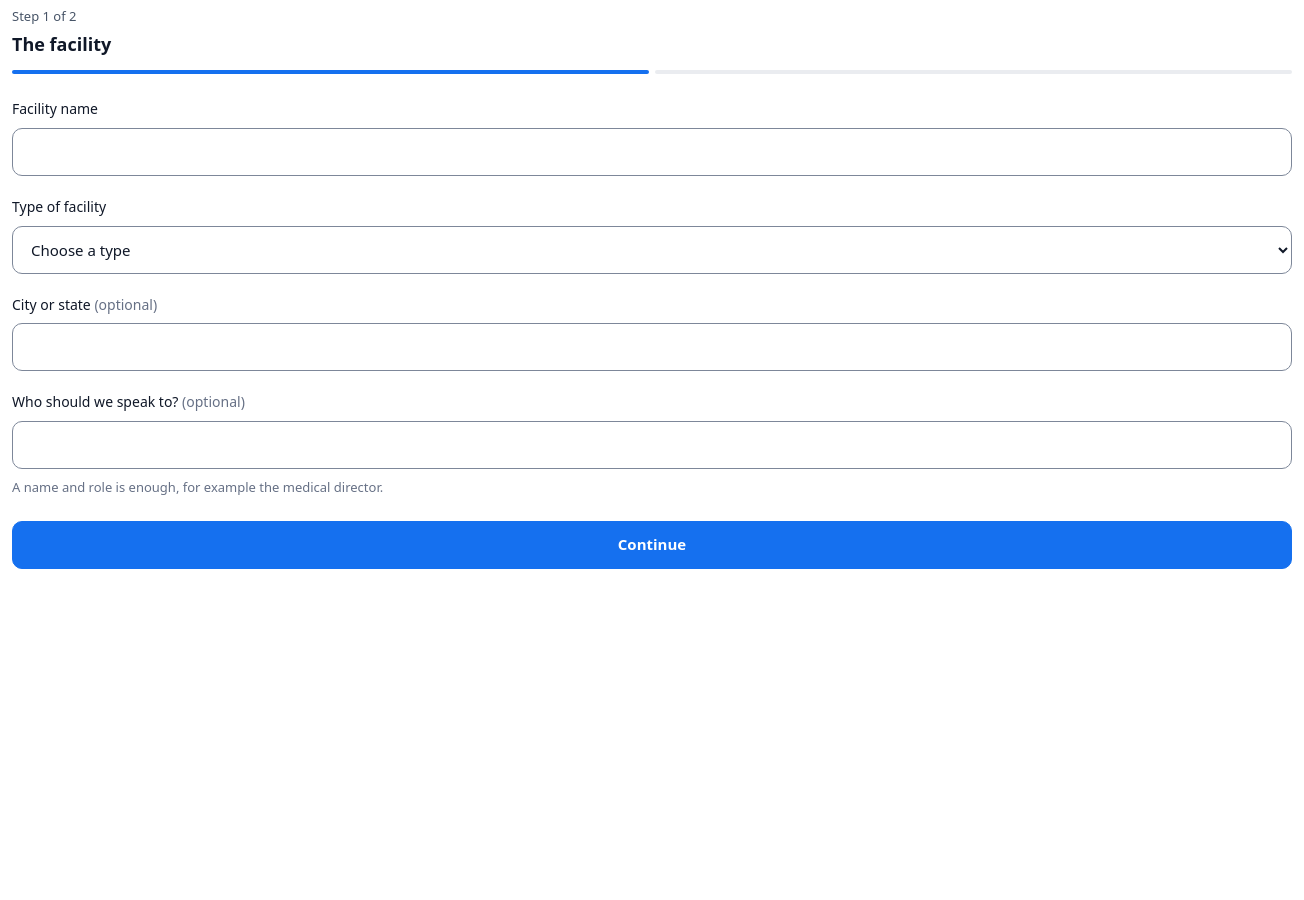
it: referral form › marks and focuses the field hid-system refused (contactPhone)
Type "Lagos General Hospital" into the field named "facilityName" at (652, 152), box [12,128,1292,176]
Select "Clinic" in the dropdown labelled "Type of facility" at (652, 250), box [12,226,1292,274]
Click the button "Continue" at (652, 545), box [12,521,1292,569]
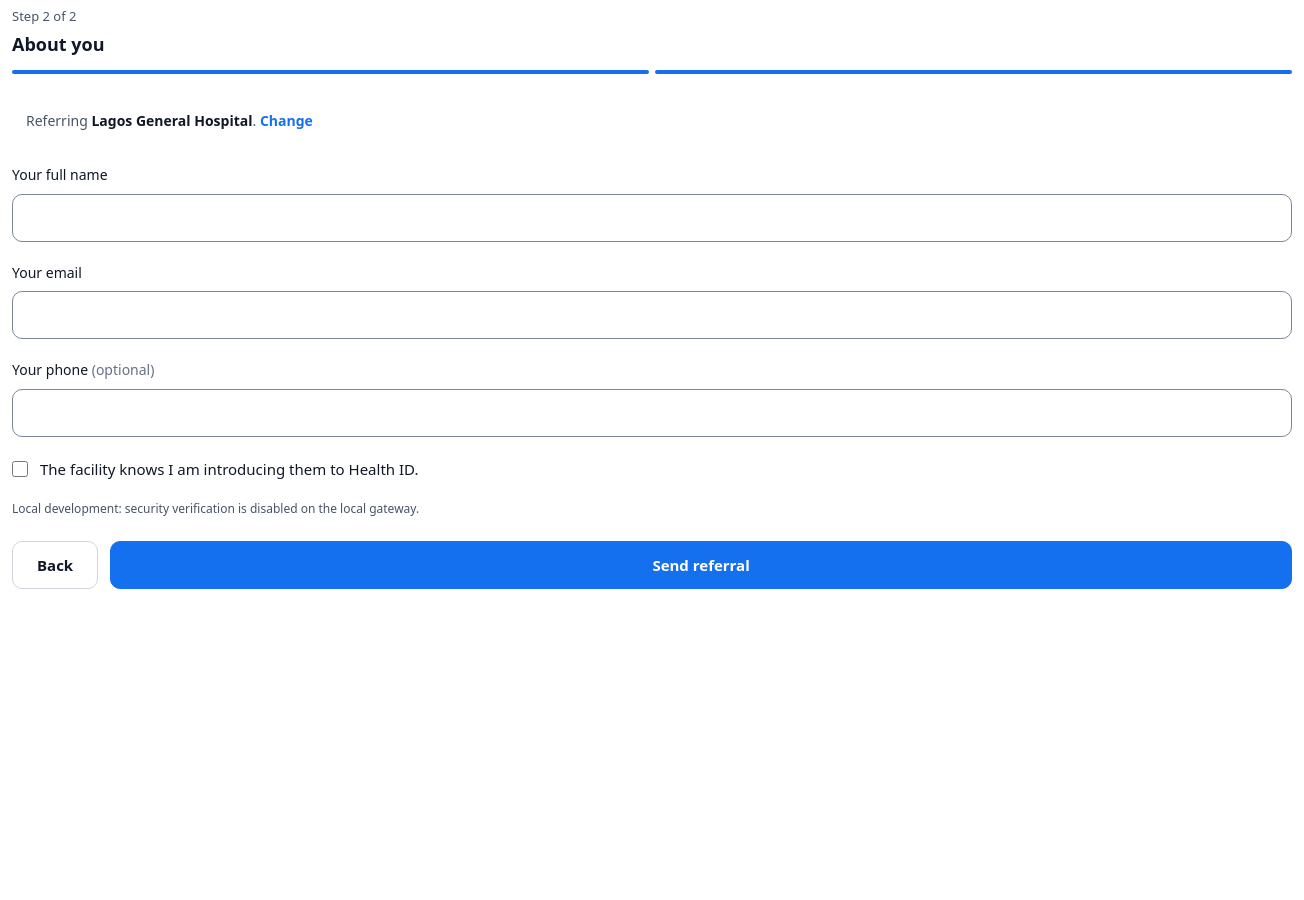
Type "Ada Okafor" into the field named "referrerName" at (652, 218), box [12,194,1292,242]
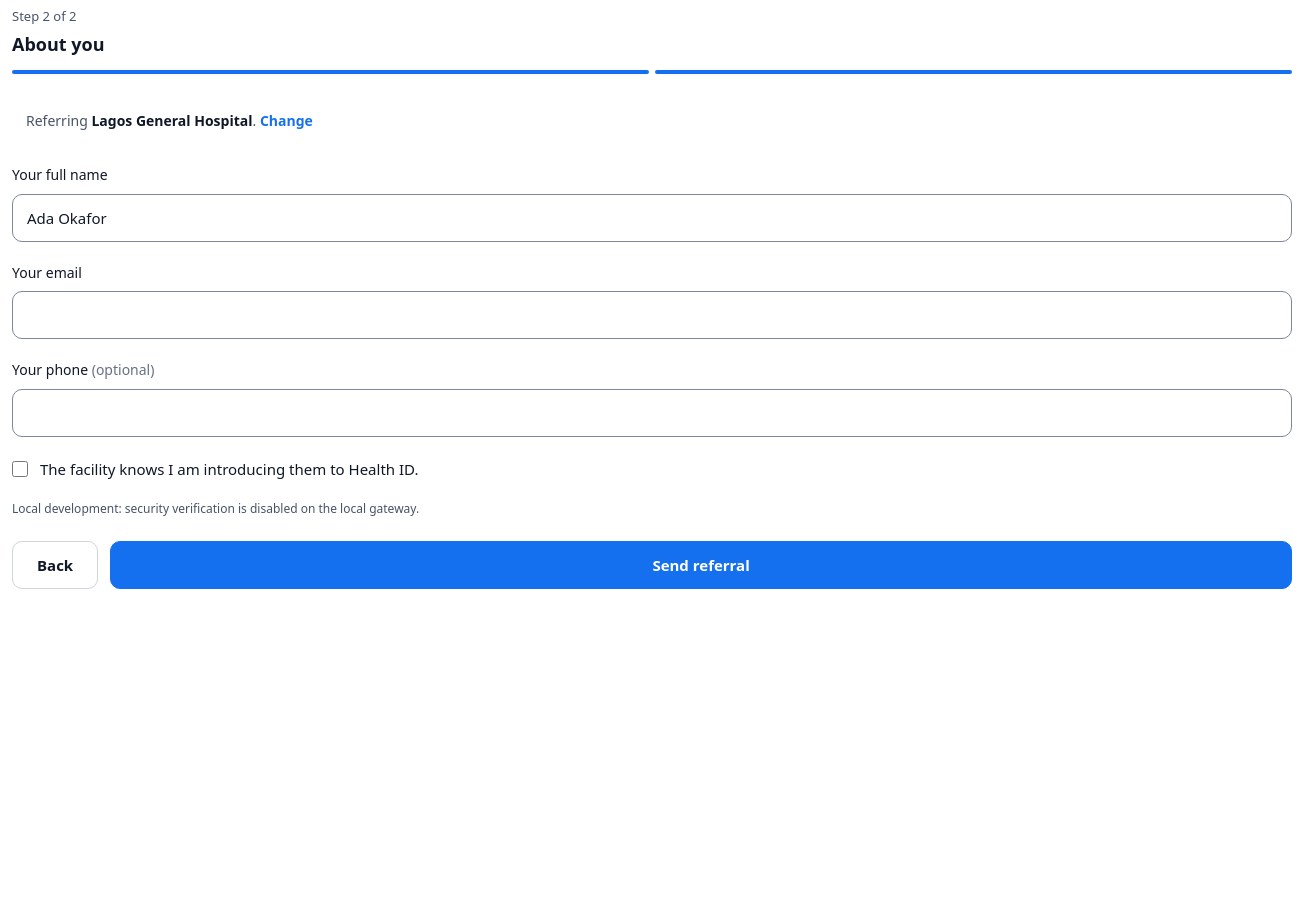
Type "ada@example.test" into the field labelled "Your email" at (652, 315), box [12,291,1292,339]
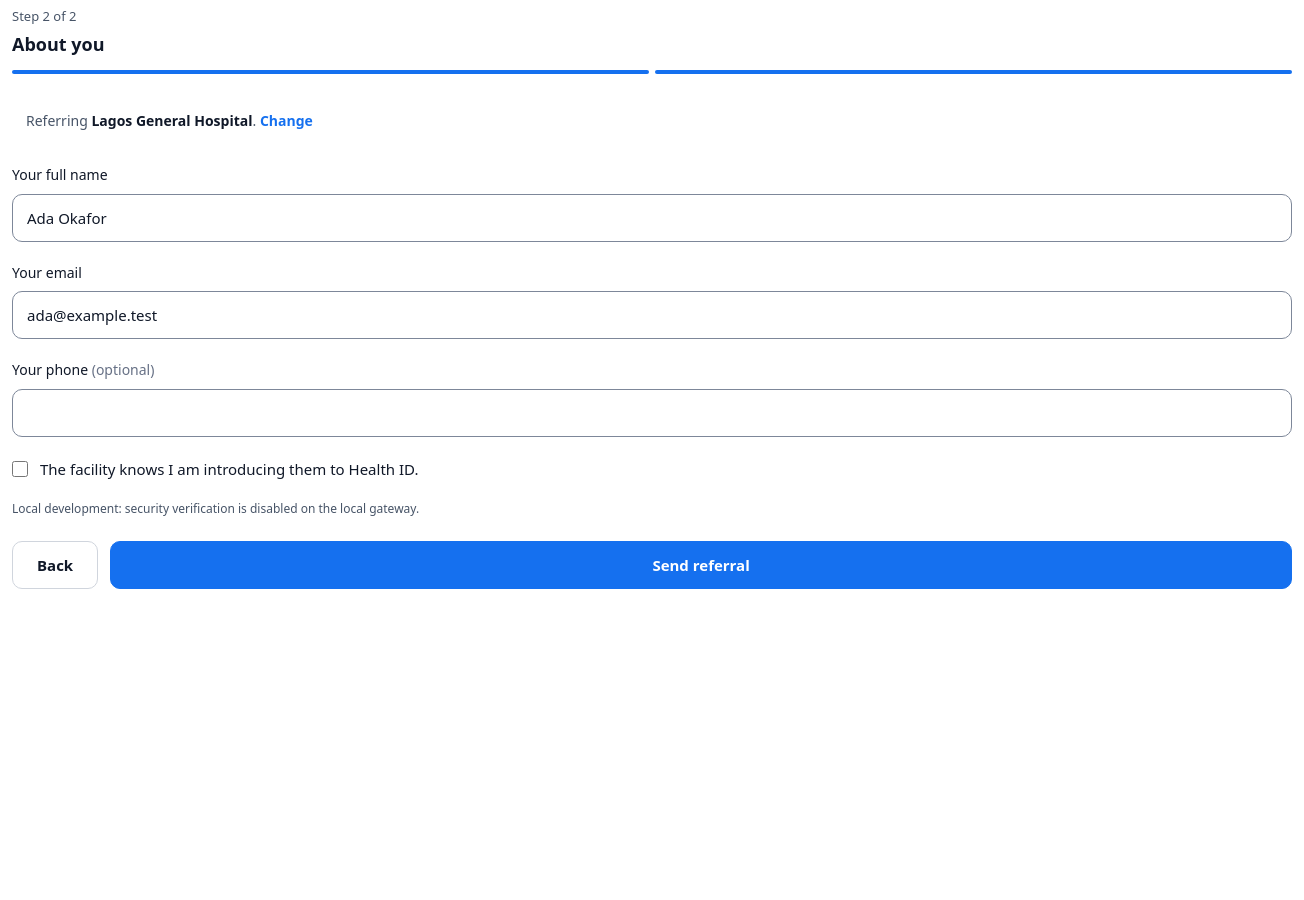
Type "+234 803 000 0000" into the field labelled "Your phone (optional)" at (652, 413), box [12,389,1292,437]
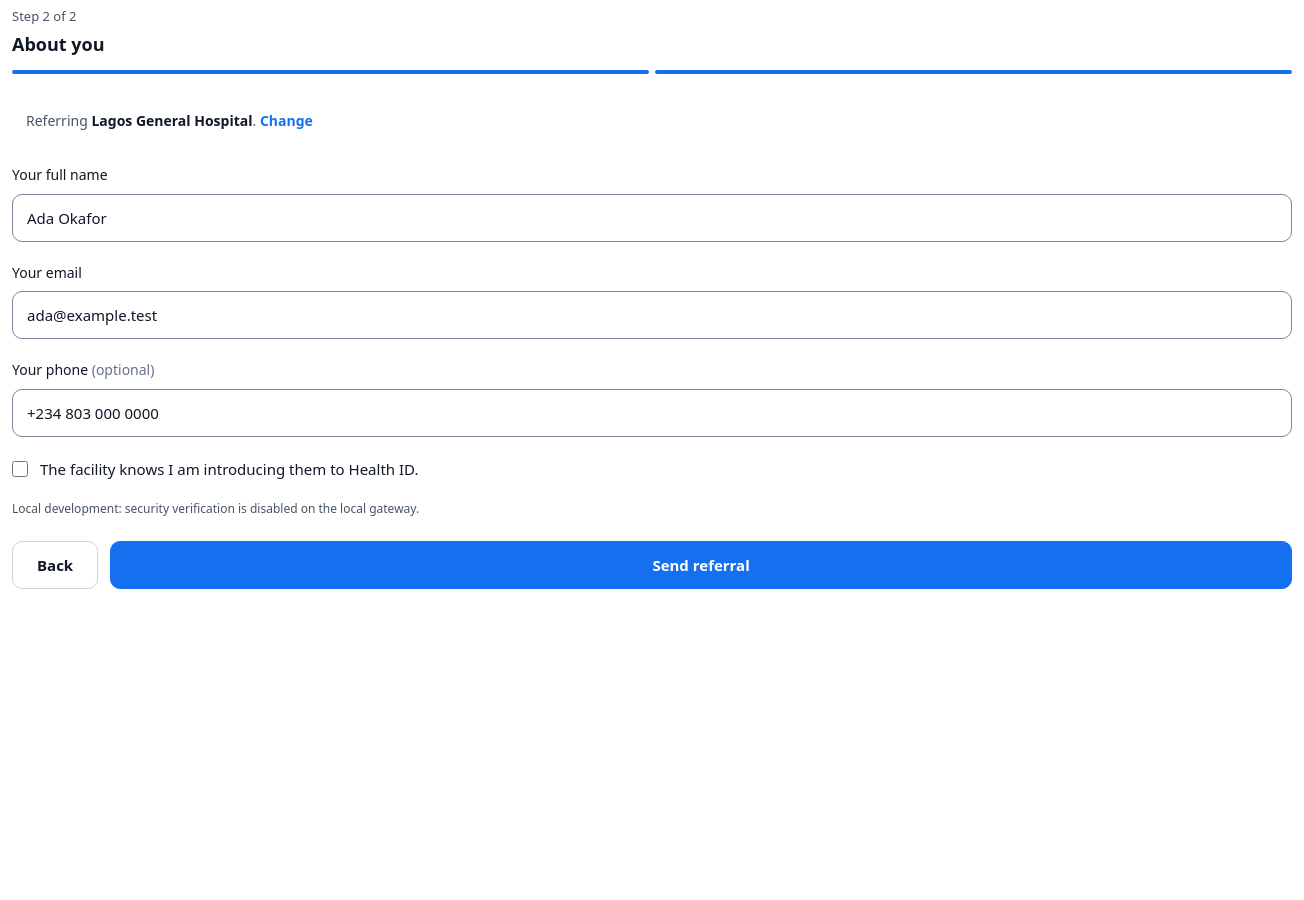
Click the checkbox labelled "The facility knows I am introducing them to Health ID." at (20, 469), box [12,461,28,477]
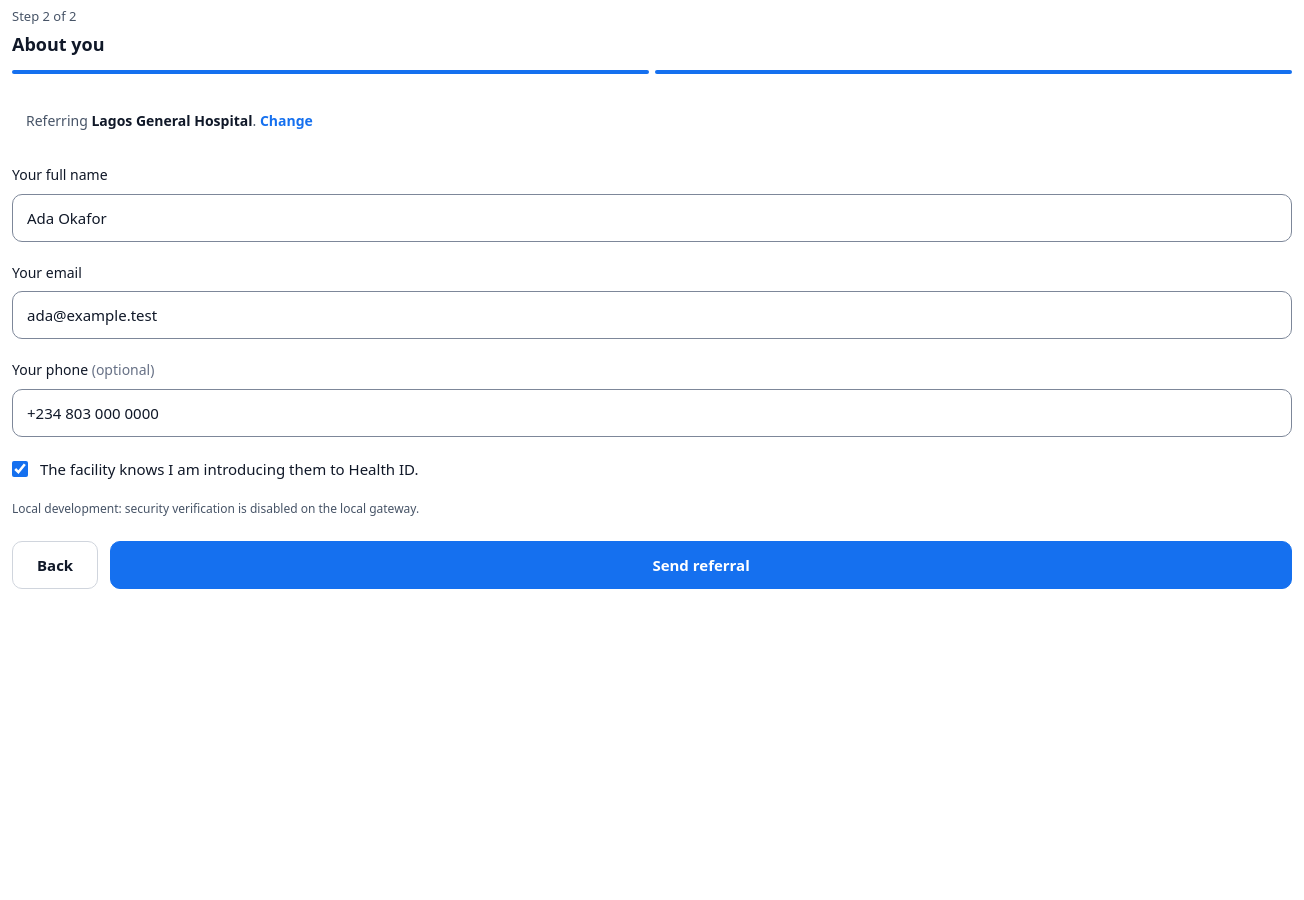
Click the button "Send referral" at (701, 565), box [110,541,1292,589]
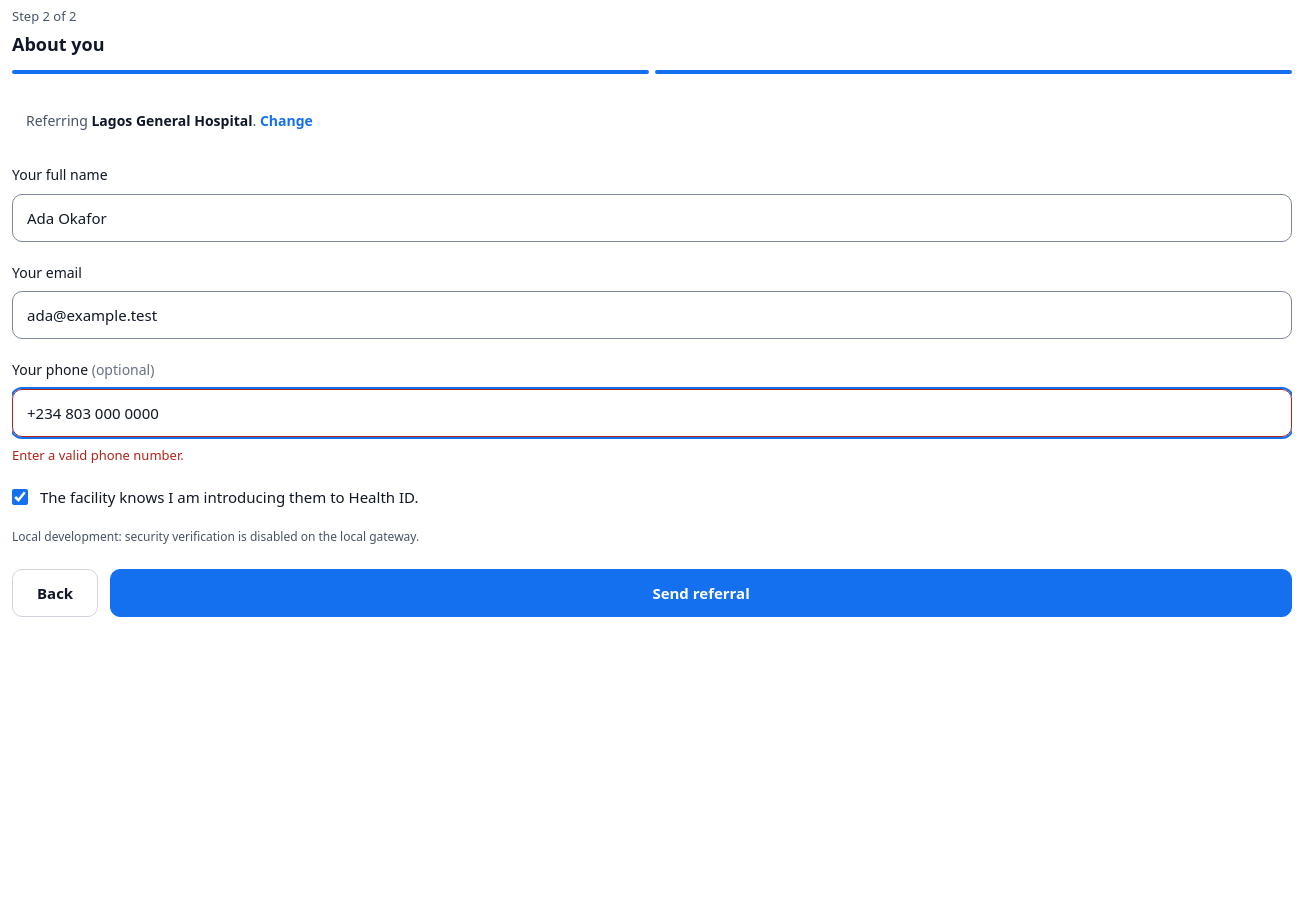
Check: the text "Enter a valid phone number." is shown, box [12,446,184,464]
